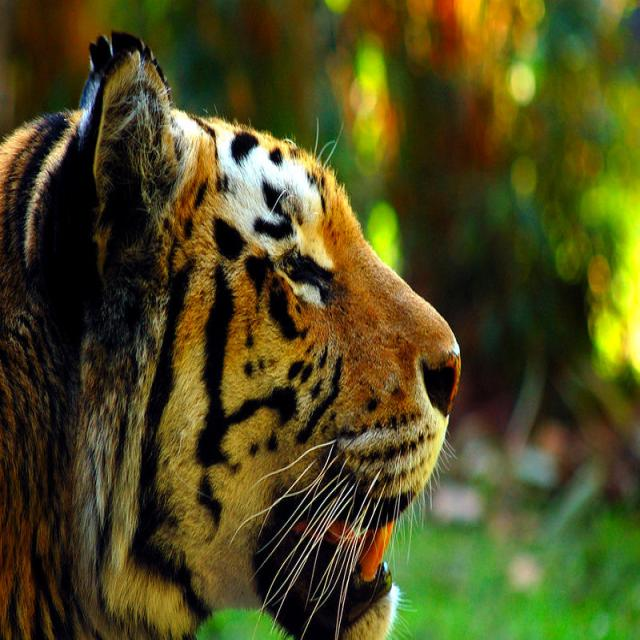Tiger: (0, 31, 462, 639)
